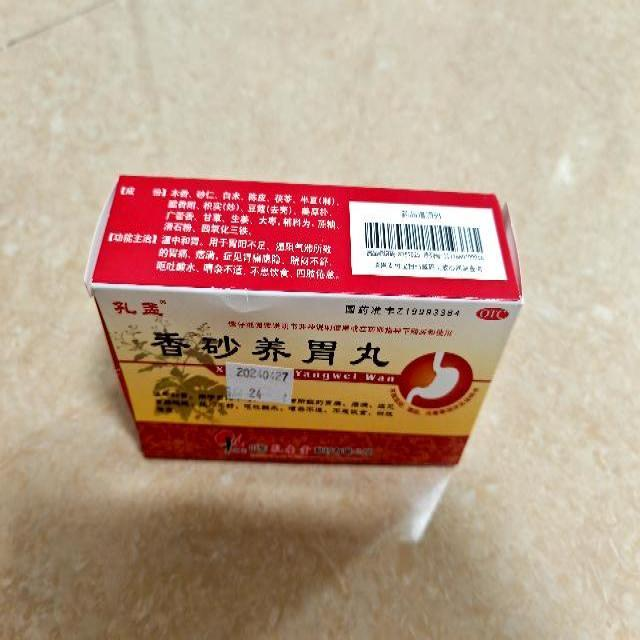box: (84, 171, 524, 466)
